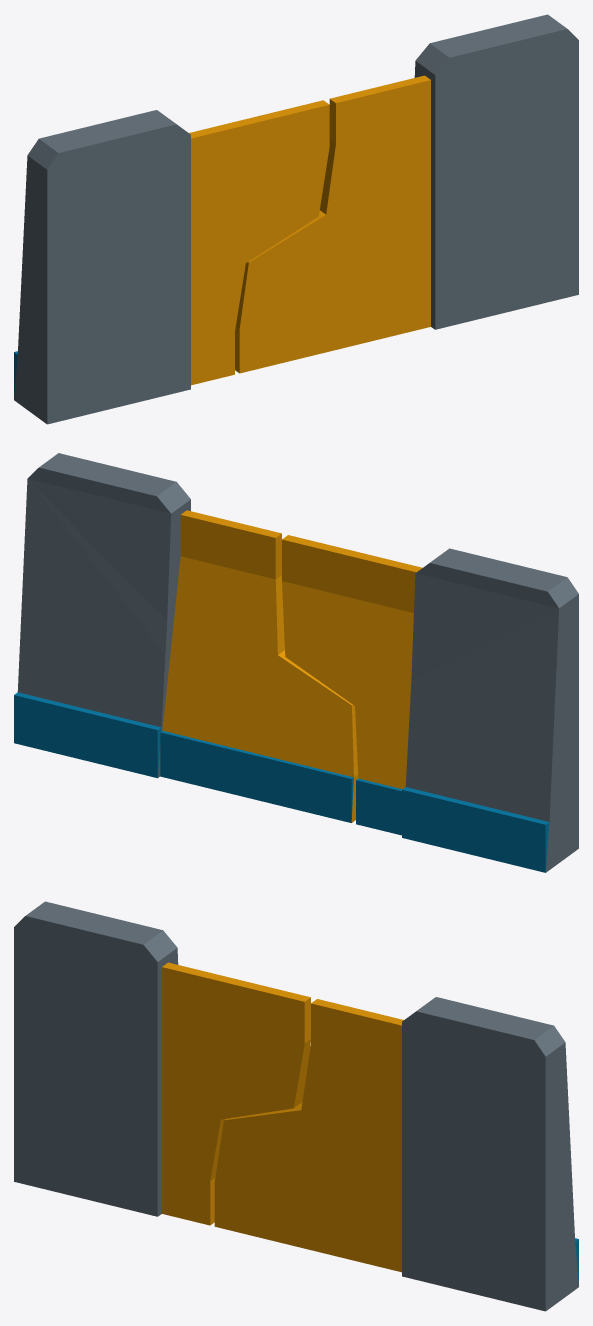
File: Gate.fbx
3 views of the same model, one above another, from view 1: azimuth 30°, elevation 25°; view 2: azimuth 150°, elevation 25°; view 3: azimuth 330°, elevation 25° (orthographic).
Parts seen in each view (by area): view 1: Gate11, Gate4, Gate1; view 2: Gate11, Gate4, Gate1; view 3: Gate11, Gate4, Gate1.
Boxes of the visible parts, box(x1,y1,x2,y2) form: Gate11: box(14, 14, 578, 424); Gate4: box(235, 75, 430, 373); Gate1: box(189, 100, 329, 385); Gate11: box(14, 453, 578, 872); Gate4: box(160, 510, 358, 822); Gate1: box(282, 535, 422, 835); Gate11: box(14, 901, 578, 1311); Gate4: box(214, 999, 403, 1272); Gate1: box(162, 962, 310, 1225).
Size of the model in its own units: 9.28 by 4.48 by 1.
